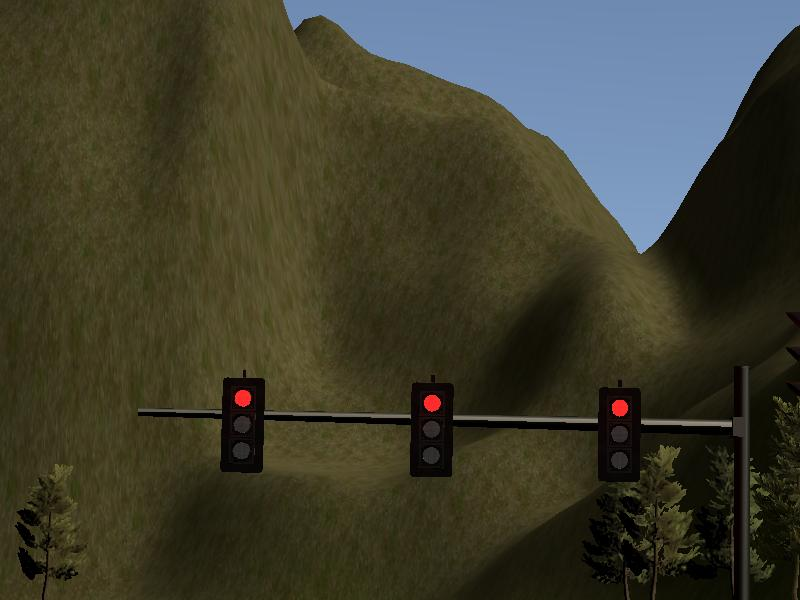red: (223, 379, 265, 472), (410, 382, 452, 475), (599, 387, 641, 480)
